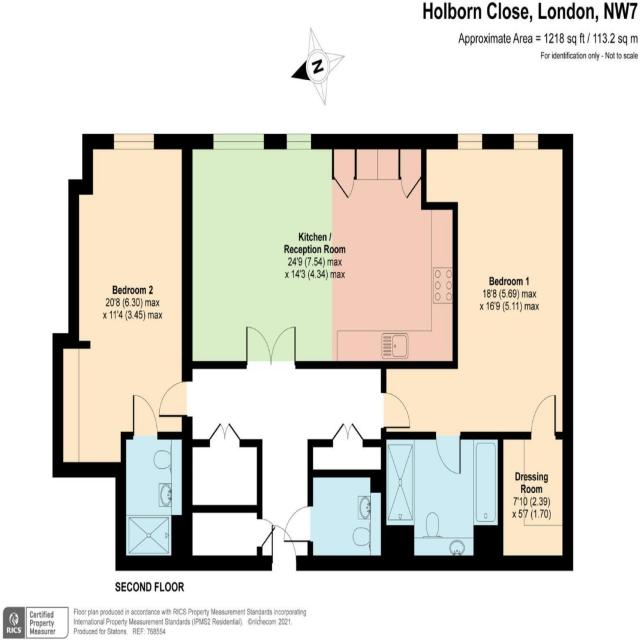DOOR: (527, 388, 561, 440), (155, 378, 193, 421), (269, 519, 300, 571), (131, 391, 161, 440), (380, 387, 413, 431)
DOUBLE DOOR: (244, 323, 297, 370)
ROOM: (181, 133, 458, 369), (380, 134, 574, 440), (53, 133, 193, 477)
WINDOW: (211, 132, 265, 152), (112, 133, 155, 151), (455, 132, 483, 151), (285, 132, 312, 151), (513, 132, 539, 151)
